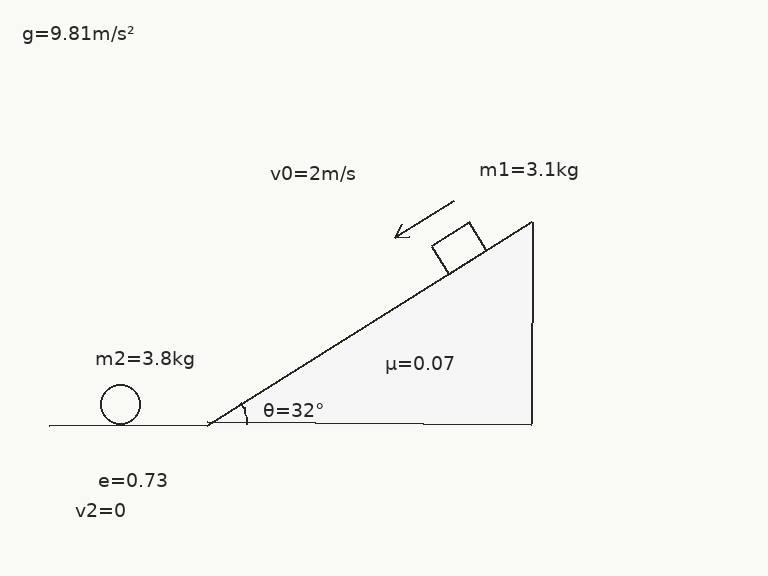ball: (98, 382, 142, 426)
block: (430, 220, 488, 275)
ramp: (205, 220, 533, 426)
